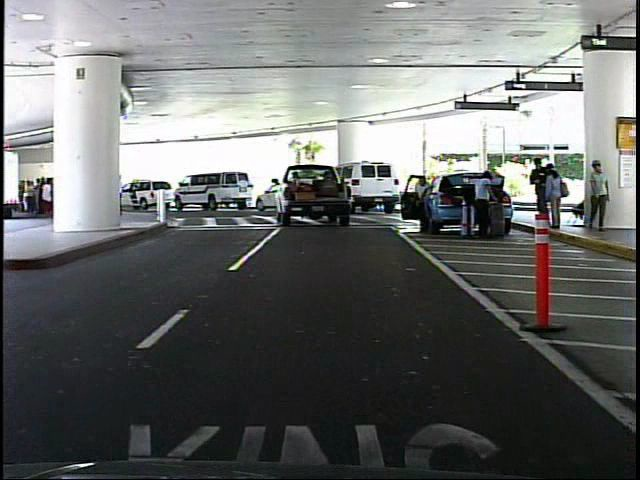person: (465, 168, 499, 243), (543, 158, 572, 238), (583, 158, 612, 236), (406, 165, 438, 235)
